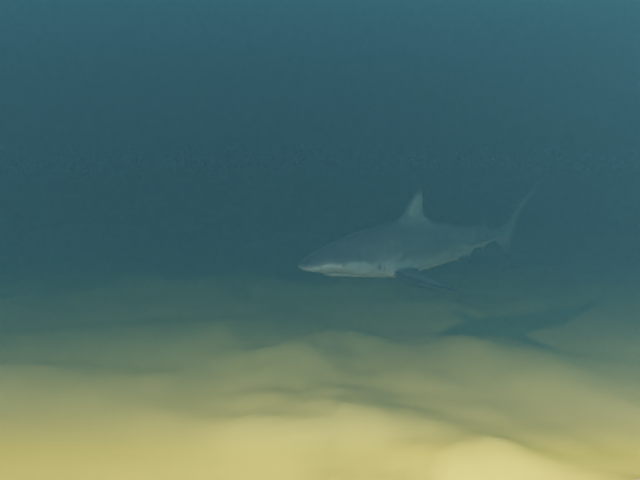Carribean Shark.001: (298, 180, 544, 293)
